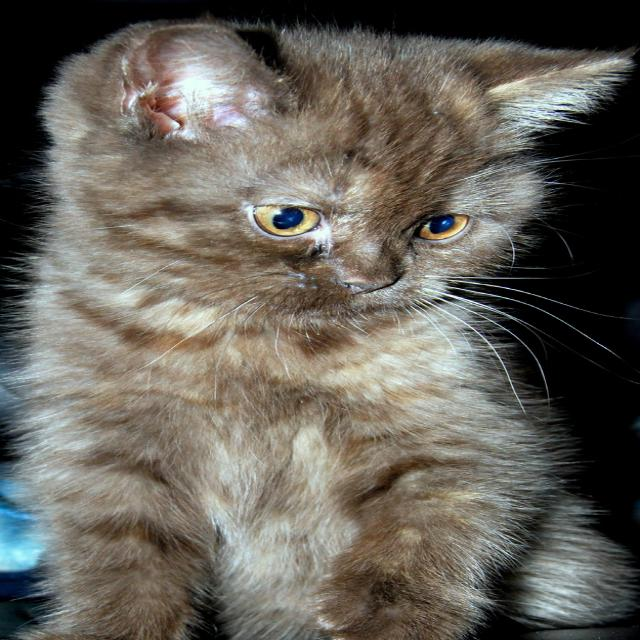Cat: (0, 11, 638, 640)
